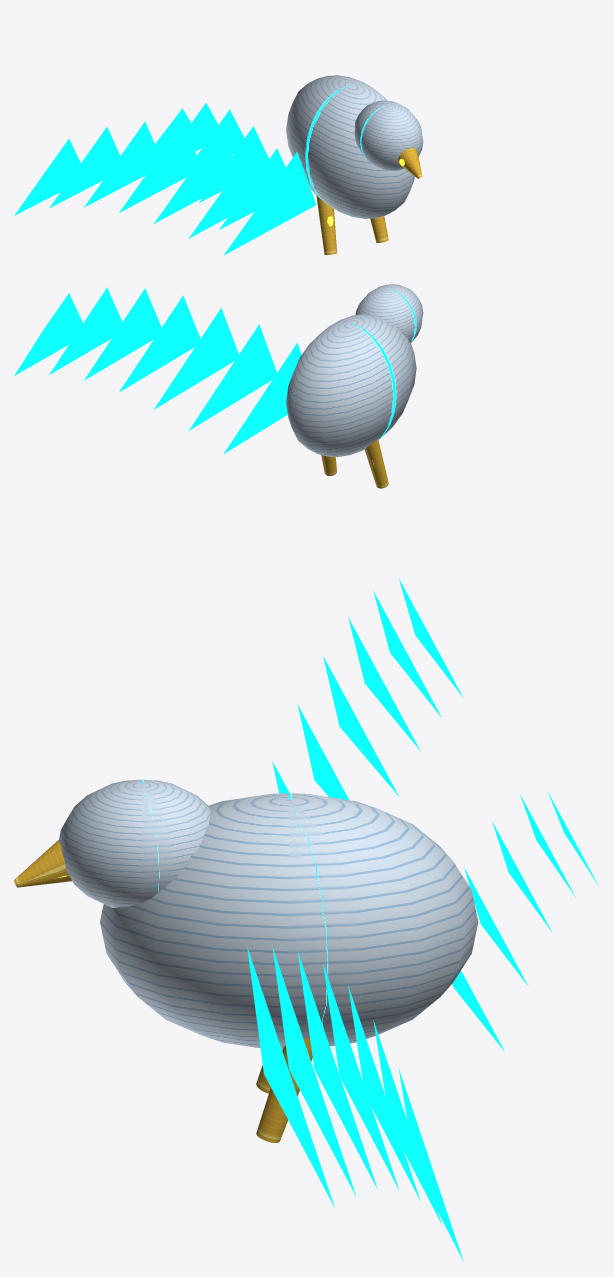
The model's file is gale_falcon.glb.
The picture shows the model from 3 angles, top to bottom: view 1: azimuth 30°, elevation 25°; view 2: azimuth 150°, elevation 25°; view 3: azimuth 270°, elevation 25°; orthographic projection. The views are drawn at different scales.
Visible parts, largest first — view 1: Node_GaleFalcon; view 2: Node_GaleFalcon; view 3: Node_GaleFalcon.
Part boxes in pixels (left/top/right/bottom): Node_GaleFalcon: left=14, top=75, right=423, bottom=255; Node_GaleFalcon: left=14, top=284, right=423, bottom=488; Node_GaleFalcon: left=14, top=578, right=598, bottom=1261.
Size of the model in its own units: 3.17 by 0.9 by 1.39.
Materials: 2 (2 with a texture image).
